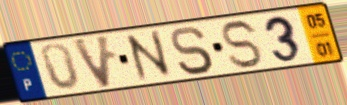0: (39, 42, 82, 93)
3: (263, 13, 309, 65)
N: (122, 27, 176, 85)
S: (168, 24, 216, 77), (220, 18, 266, 71)
V: (69, 33, 115, 91)
